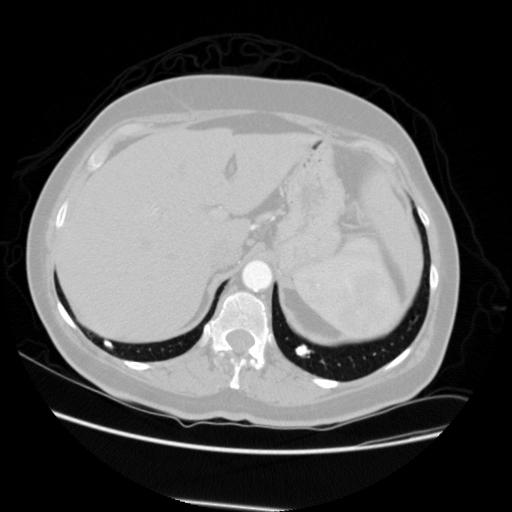nodule: (293, 341, 311, 359)
